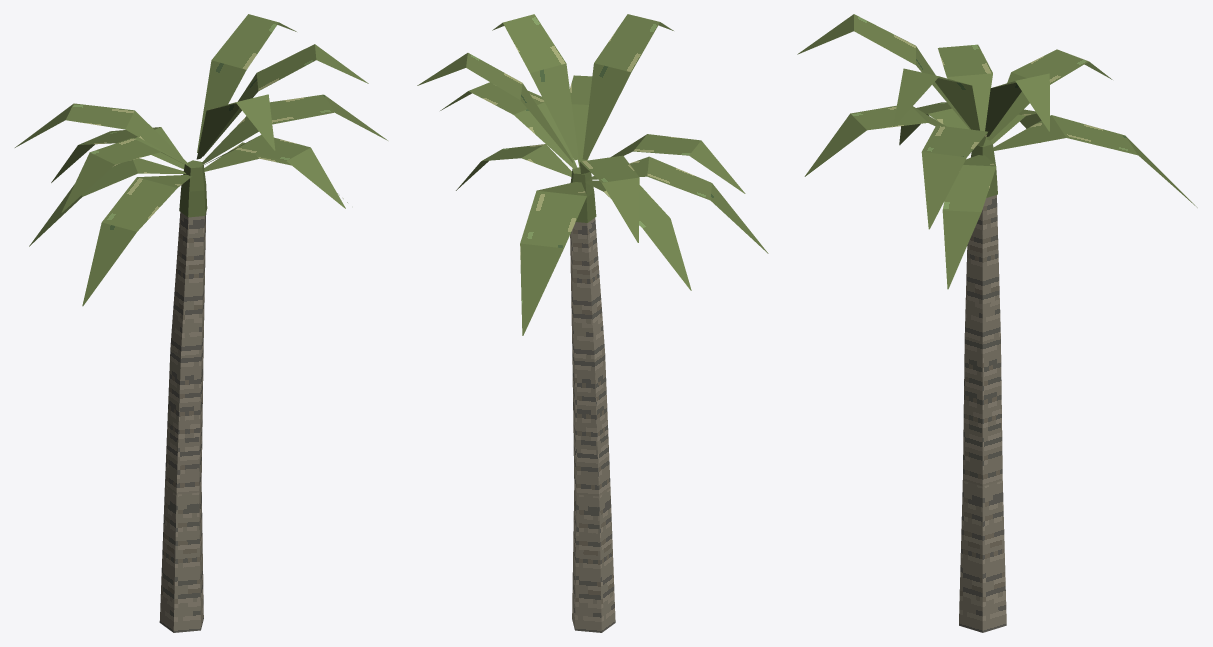
The model's file is foxtail-mid.glb.
3 views of the same model, side by side, from view 1: azimuth 30°, elevation 25°; view 2: azimuth 150°, elevation 25°; view 3: azimuth 270°, elevation 25° (orthographic). The views are drawn at different scales.
Parts seen in each view (by area): view 1: crown_foxtail-mid, trunk_foxtail-mid; view 2: crown_foxtail-mid, trunk_foxtail-mid; view 3: crown_foxtail-mid, trunk_foxtail-mid.
Part boxes in pixels (x1,y1,x2,y2): crown_foxtail-mid: [15, 14, 387, 306]; trunk_foxtail-mid: [159, 160, 207, 632]; crown_foxtail-mid: [417, 14, 768, 335]; trunk_foxtail-mid: [570, 167, 615, 632]; crown_foxtail-mid: [797, 14, 1197, 289]; trunk_foxtail-mid: [959, 139, 1006, 632].
Size of the model in its own units: 5.89 by 9.98 by 6.01.
Materials: 2 (2 with a texture image).
